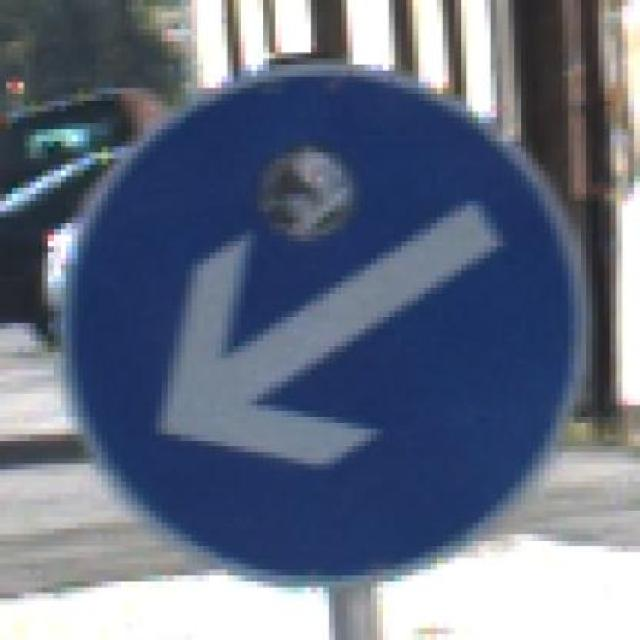Keep-Left: (54, 59, 611, 593)
